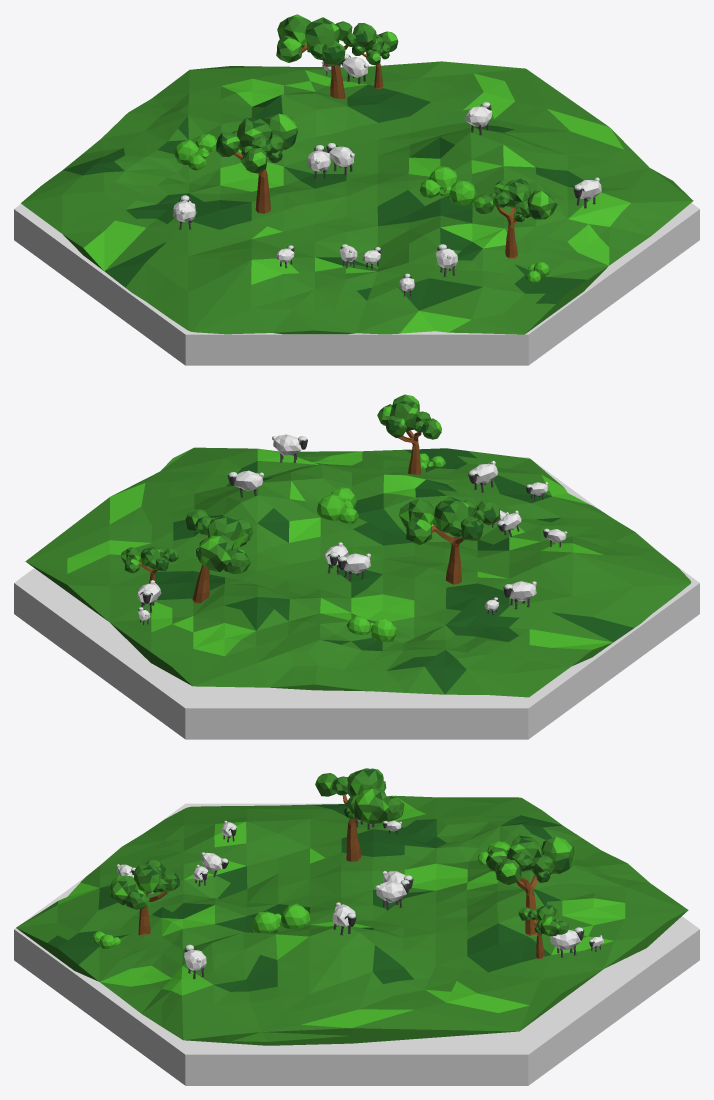
File: Sheep Tile.fbx
The picture shows the model from 3 angles, top to bottom: view 1: azimuth 30°, elevation 25°; view 2: azimuth 150°, elevation 25°; view 3: azimuth 270°, elevation 25°; orthographic projection.
Visible parts, largest first — view 1: Cylinder.031; view 2: Cylinder.031; view 3: Cylinder.031.
Boxes of the visible parts, box(x1,y1,x2,y2) form: Cylinder.031: box(14, 14, 699, 365); Cylinder.031: box(14, 394, 699, 739); Cylinder.031: box(14, 768, 699, 1085).
Size of the model in its own units: 173 by 46.74 by 200.
